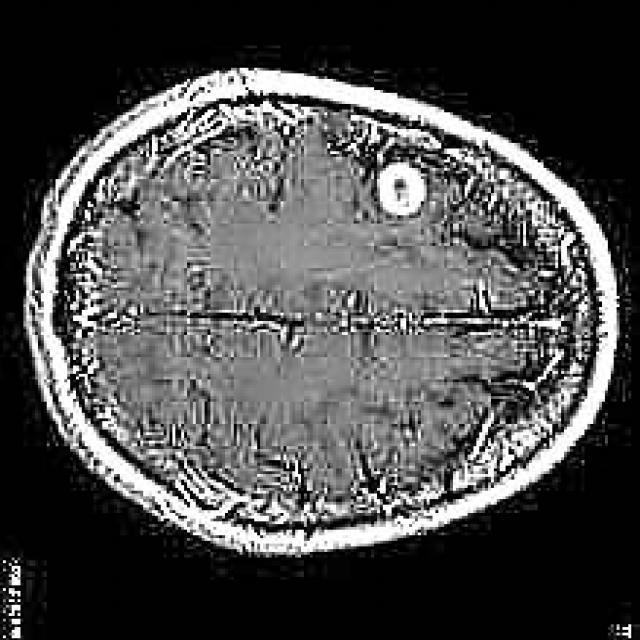tumor: (374, 159, 433, 223)
